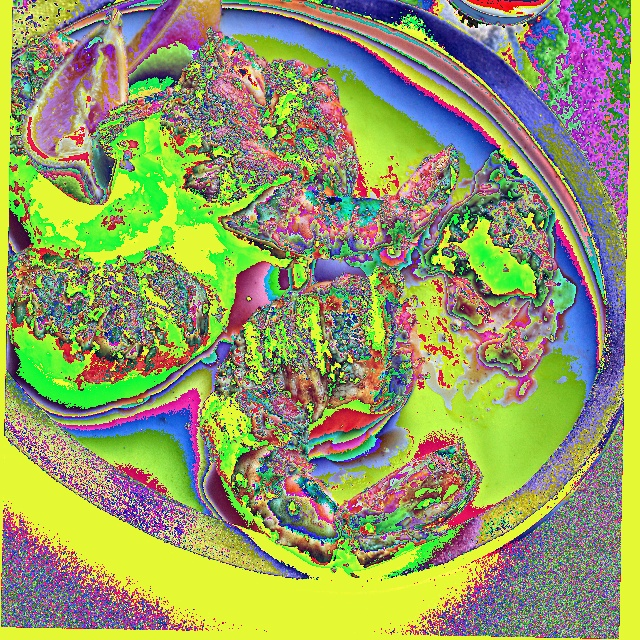background: (7, 0, 483, 579), (158, 153, 576, 374)
